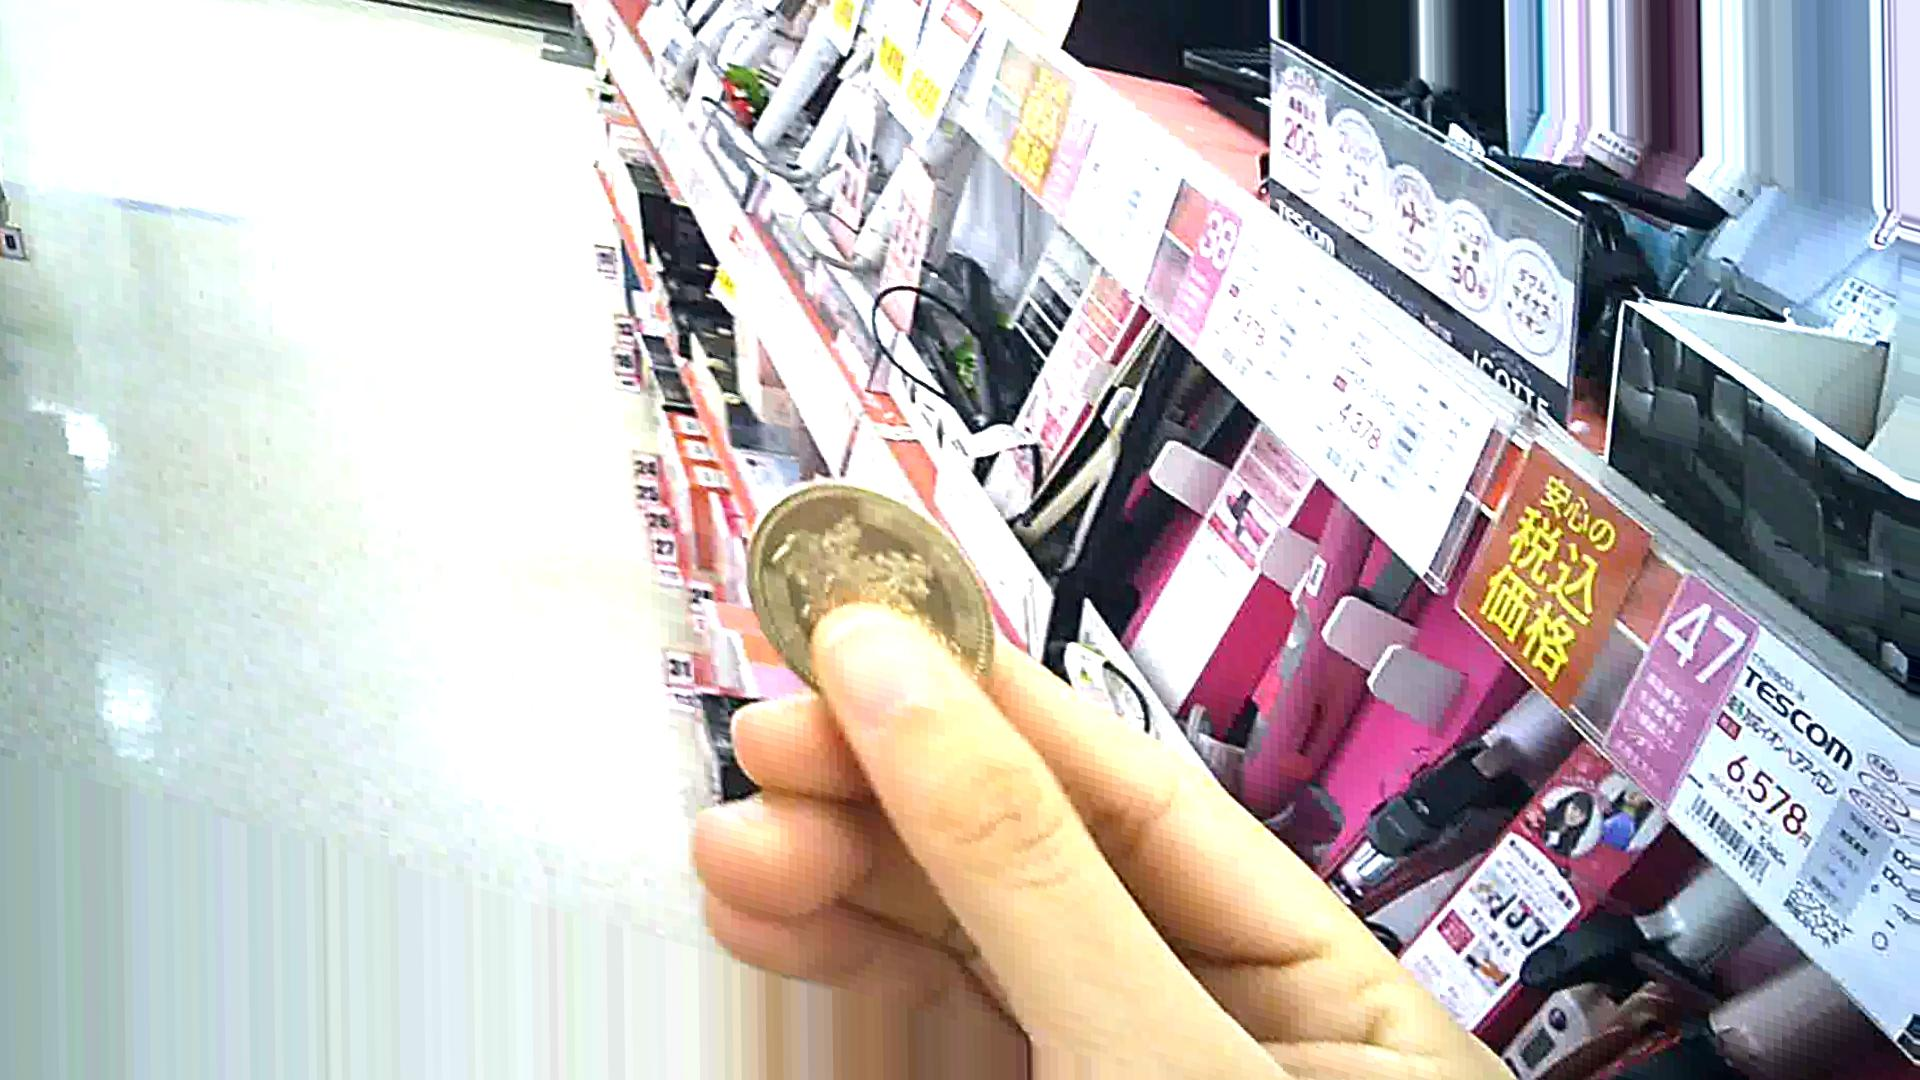500 Yen: (732, 469, 1017, 717)
